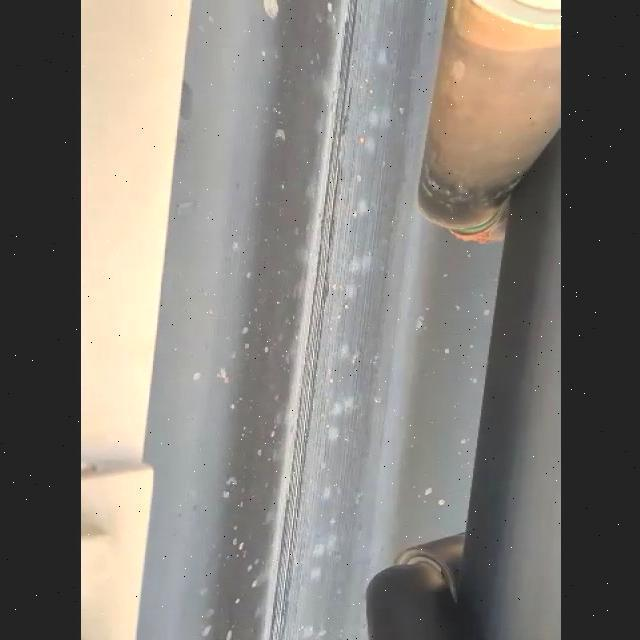Wear: (258, 0, 364, 640)
